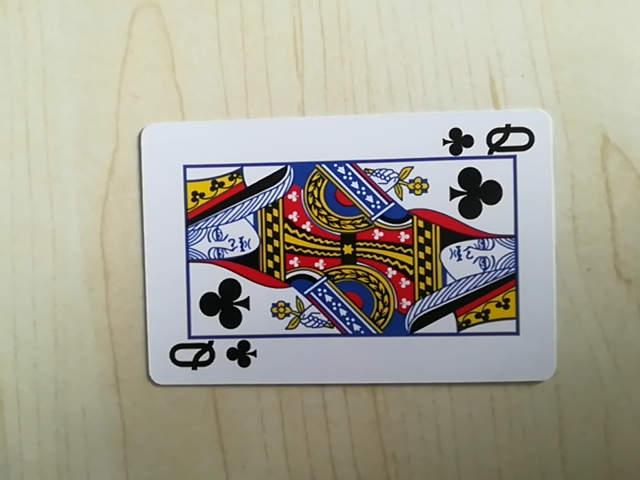mh q: (162, 332, 260, 380), (441, 121, 539, 159)
